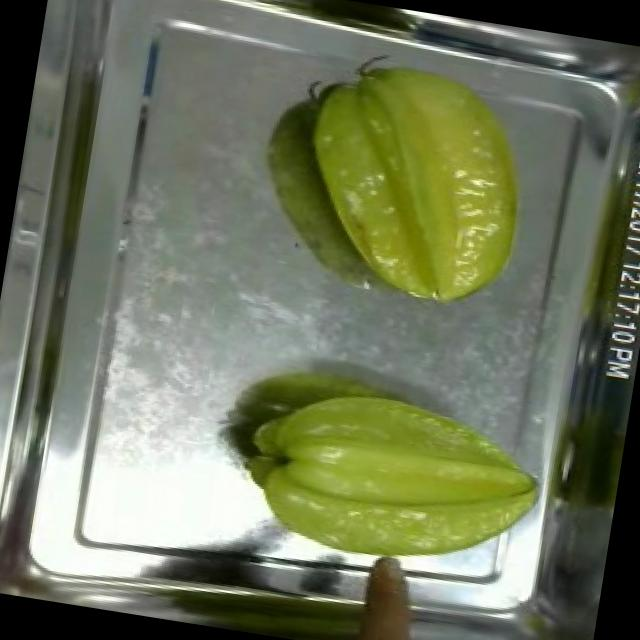fruit: (219, 358, 560, 594), (273, 39, 552, 326)
